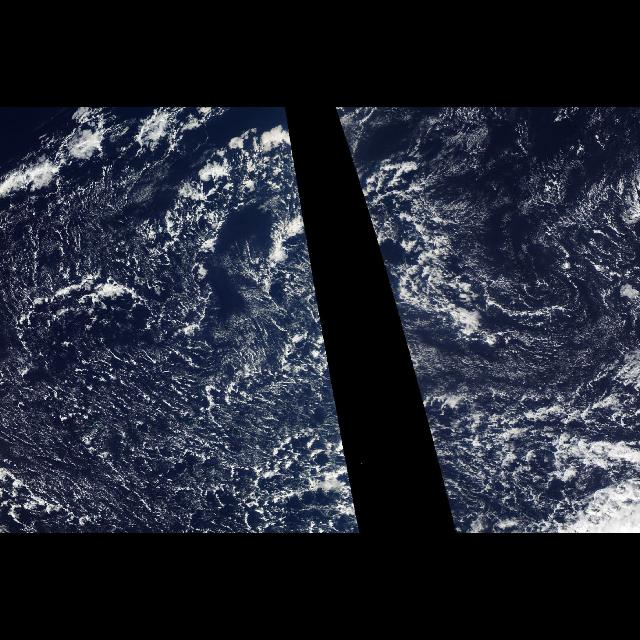Fish: (4, 110, 286, 208)
Gravel: (4, 211, 363, 534), (466, 373, 640, 532), (402, 330, 466, 532)
Sugar: (392, 272, 632, 386)
